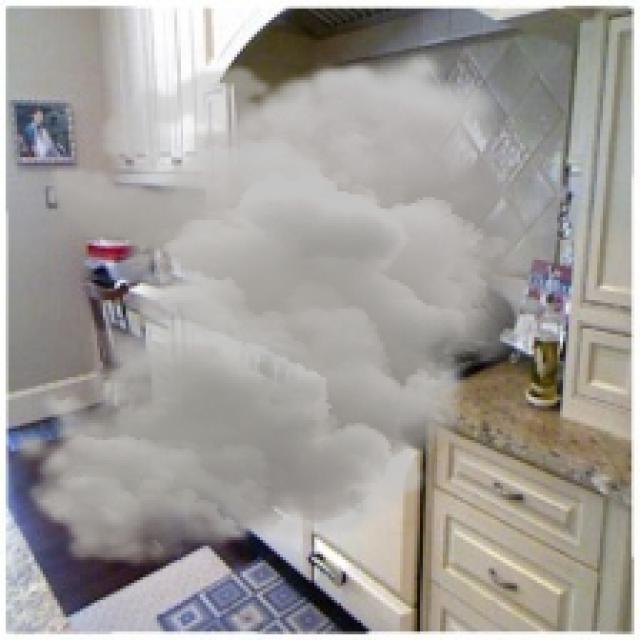Smoke: (6, 49, 574, 568)
